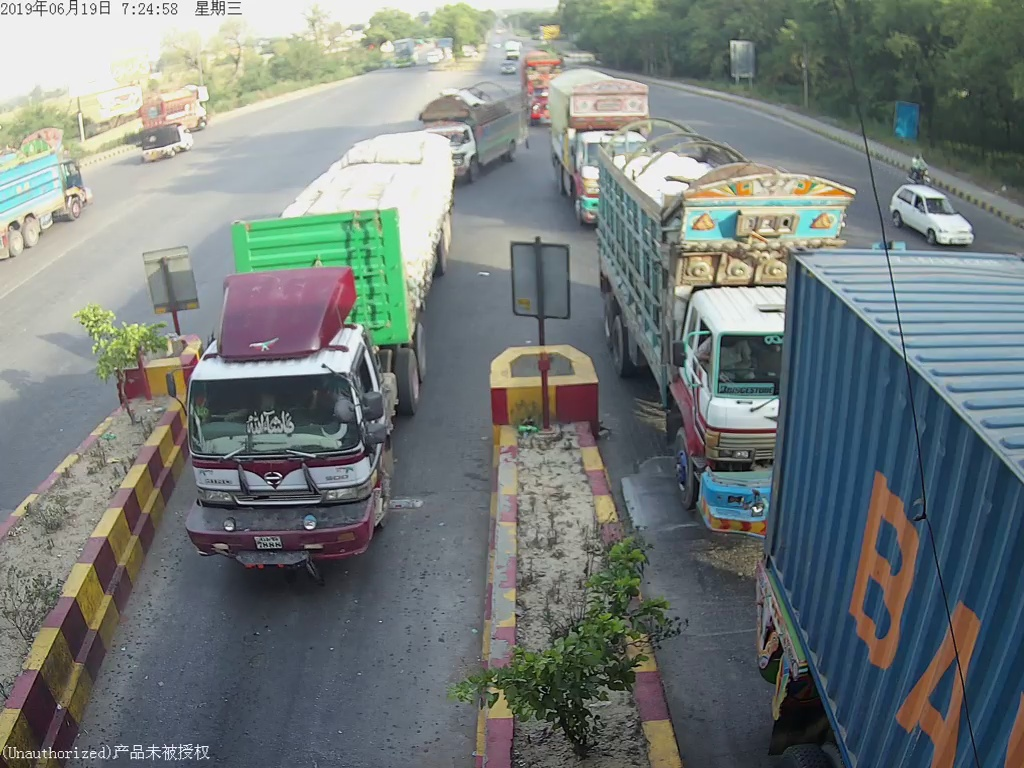Cat-4: (605, 129, 765, 543)
Cat-5: (181, 125, 460, 583)
